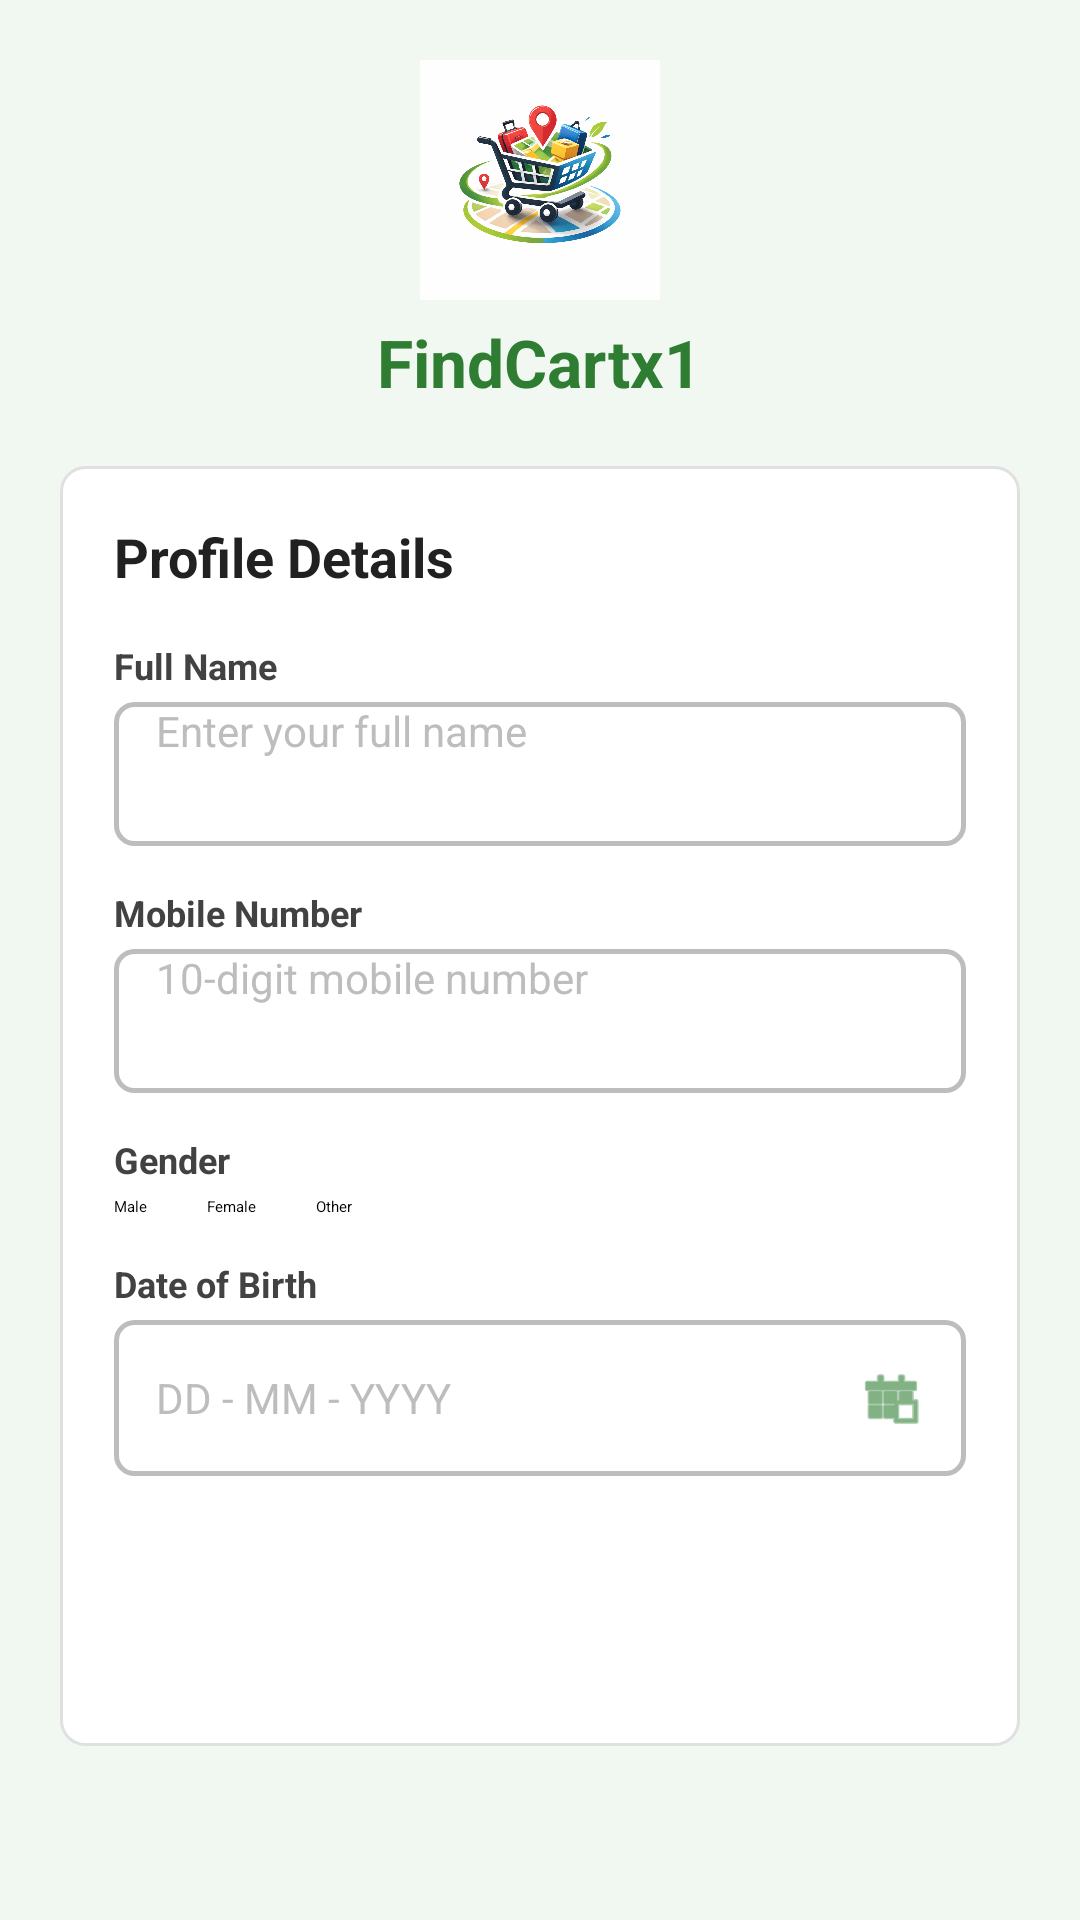

Where icons sit on this 1080x1920 app screen, as [x1, y1, x2, y2]:
today: [865, 1374, 919, 1424]
